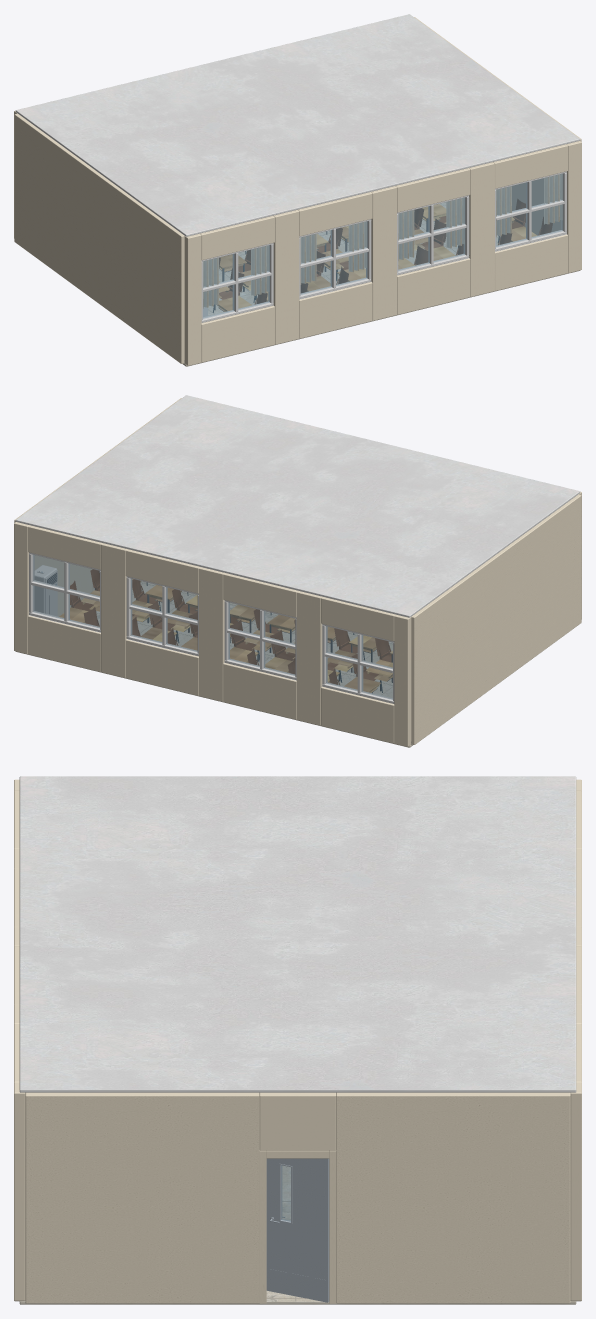
The model's file is classroom.glb.
3 views of the same model, one above another, from view 1: azimuth 30°, elevation 25°; view 2: azimuth 150°, elevation 25°; view 3: azimuth 270°, elevation 25° (orthographic). The views are drawn at different scales.
Parts seen in each view (by area): view 1: cl-floor-walls_ceiling, cl-floor-walls_wall_west, cl-windows_glass_s1, cl-windows_glass_s4, cl-floor-walls_wall_s_pier2, cl-windows_glass_s3, cl-windows_glass_s2, cl-floor-walls_wall_s_pier4, cl-floor-walls_wall_s_pier3, cl-floor-walls_wall_s_sill1, cl-floor-walls_wall_s_sill3, cl-floor-walls_wall_s_sill2 (+17 smaller); view 2: cl-floor-walls_ceiling, cl-floor-walls_wall_west, cl-windows_glass_n4, cl-windows_glass_n1, cl-windows_glass_n3, cl-windows_glass_n2, cl-floor-walls_wall_n_pier2, cl-floor-walls_wall_n_pier4, cl-floor-walls_wall_n_pier3, cl-floor-walls_wall_n_sill1, cl-floor-walls_wall_n_sill2, cl-floor-walls_wall_n_sill3 (+10 smaller); view 3: cl-floor-walls_ceiling, cl-floor-walls_wall_east_south, cl-floor-walls_wall_east_north, cl-windows_door, cl-floor-walls_wall_east_lintel, cl-floor-walls_wall_s_pier5, cl-floor-walls_wall_n_pier5, cl-floor-walls_floor, cl-windows_door_jamb_right, cl-windows_door_jamb_left.
Part boxes in pixels (left/top/right/bottom): cl-floor-walls_ceiling: left=15, top=14, right=580, bottom=236; cl-floor-walls_wall_west: left=14, top=113, right=184, bottom=363; cl-windows_glass_s1: left=203, top=245, right=269, bottom=318; cl-windows_glass_s4: left=496, top=174, right=562, bottom=246; cl-floor-walls_wall_s_pier2: left=273, top=210, right=299, bottom=344; cl-windows_glass_s3: left=398, top=197, right=464, bottom=270; cl-windows_glass_s2: left=300, top=221, right=367, bottom=294; cl-floor-walls_wall_s_pier4: left=469, top=162, right=494, bottom=296; cl-floor-walls_wall_s_pier3: left=371, top=186, right=396, bottom=320; cl-floor-walls_wall_s_sill1: left=201, top=306, right=274, bottom=362; cl-floor-walls_wall_s_sill3: left=397, top=258, right=470, bottom=314; cl-floor-walls_wall_s_sill2: left=299, top=282, right=372, bottom=338; cl-floor-walls_ceiling: left=15, top=395, right=580, bottom=617; cl-floor-walls_wall_west: left=411, top=494, right=581, bottom=744; cl-windows_glass_n4: left=33, top=555, right=99, bottom=627; cl-windows_glass_n1: left=326, top=626, right=392, bottom=699; cl-windows_glass_n3: left=131, top=578, right=197, bottom=651; cl-windows_glass_n2: left=228, top=602, right=295, bottom=675; cl-floor-walls_wall_n_pier2: left=296, top=591, right=322, bottom=725; cl-floor-walls_wall_n_pier4: left=101, top=543, right=126, bottom=677; cl-floor-walls_wall_n_pier3: left=199, top=567, right=224, bottom=701; cl-floor-walls_wall_n_sill1: left=321, top=687, right=394, bottom=743; cl-floor-walls_wall_n_sill2: left=223, top=663, right=296, bottom=719; cl-floor-walls_wall_n_sill3: left=125, top=639, right=198, bottom=695; cl-floor-walls_ceiling: left=19, top=776, right=576, bottom=1092; cl-floor-walls_wall_east_south: left=25, top=1092, right=259, bottom=1303; cl-floor-walls_wall_east_north: left=336, top=1092, right=570, bottom=1303; cl-windows_door: left=266, top=1158, right=329, bottom=1302; cl-floor-walls_wall_east_lintel: left=259, top=1092, right=336, bottom=1150; cl-floor-walls_wall_s_pier5: left=14, top=1082, right=25, bottom=1301; cl-floor-walls_wall_n_pier5: left=570, top=1082, right=581, bottom=1301; cl-floor-walls_floor: left=19, top=1166, right=576, bottom=1304; cl-windows_door_jamb_right: left=329, top=1150, right=336, bottom=1303; cl-windows_door_jamb_left: left=259, top=1150, right=266, bottom=1303.
Bounding box in the file's own units: 9.83 × 3.1 × 7.41.
Materials: 43 (28 with a texture image).
